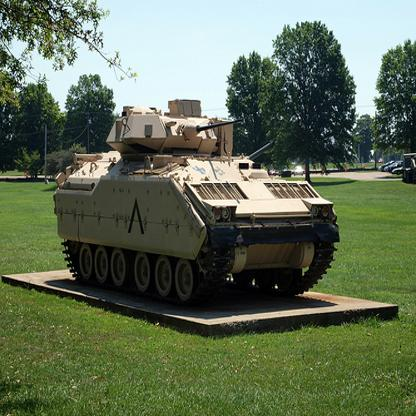Tank: (54, 99, 340, 319)
